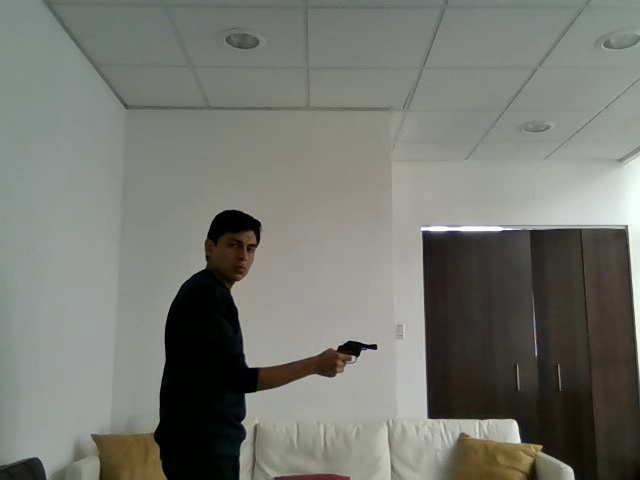pistola: (332, 334, 387, 366)
